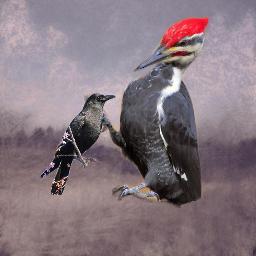Crow: (40, 92, 116, 195)
Woodpecker: (84, 16, 209, 208)
